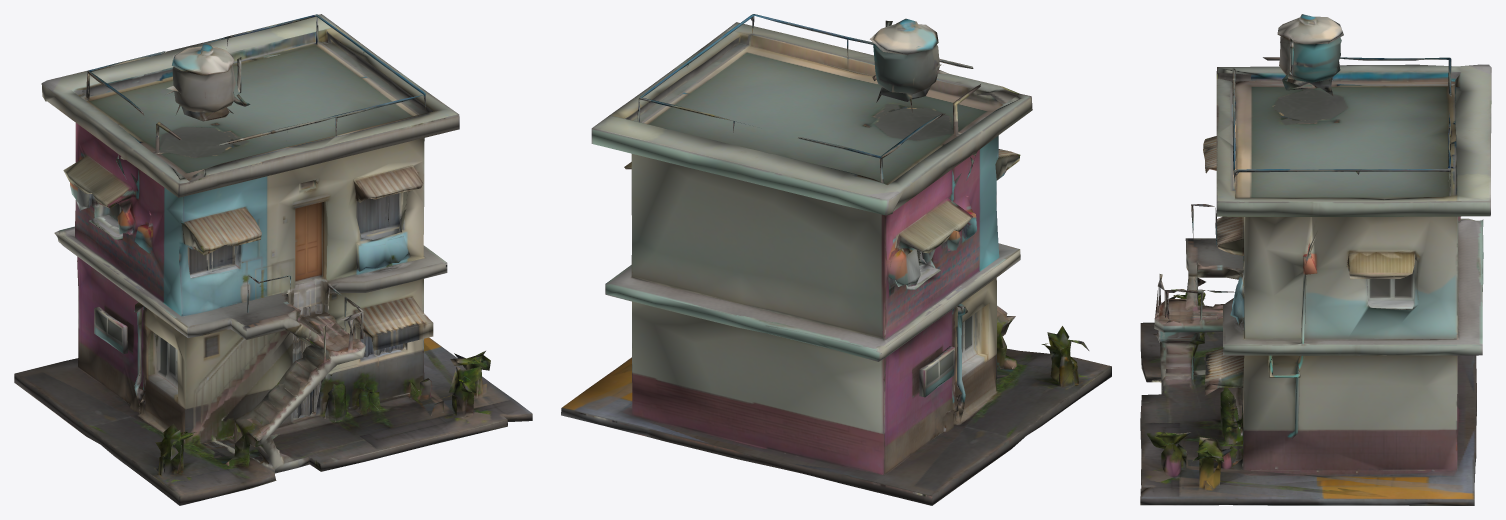
File: IndianBuilding1.fbx
3 views of the same model, side by side, from view 1: azimuth 30°, elevation 25°; view 2: azimuth 150°, elevation 25°; view 3: azimuth 270°, elevation 25° (orthographic). The views are drawn at different scales.
Visible parts, largest first — view 1: IndianBuilding1; view 2: IndianBuilding1; view 3: IndianBuilding1.
Part boxes in pixels (x1=…): IndianBuilding1: x1=14, y1=14, x2=532, y2=505; IndianBuilding1: x1=561, y1=14, x2=1111, y2=505; IndianBuilding1: x1=1140, y1=14, x2=1491, y2=505.
Size of the model in its own units: 749 by 764 by 644.
1 material, 1 textured.
